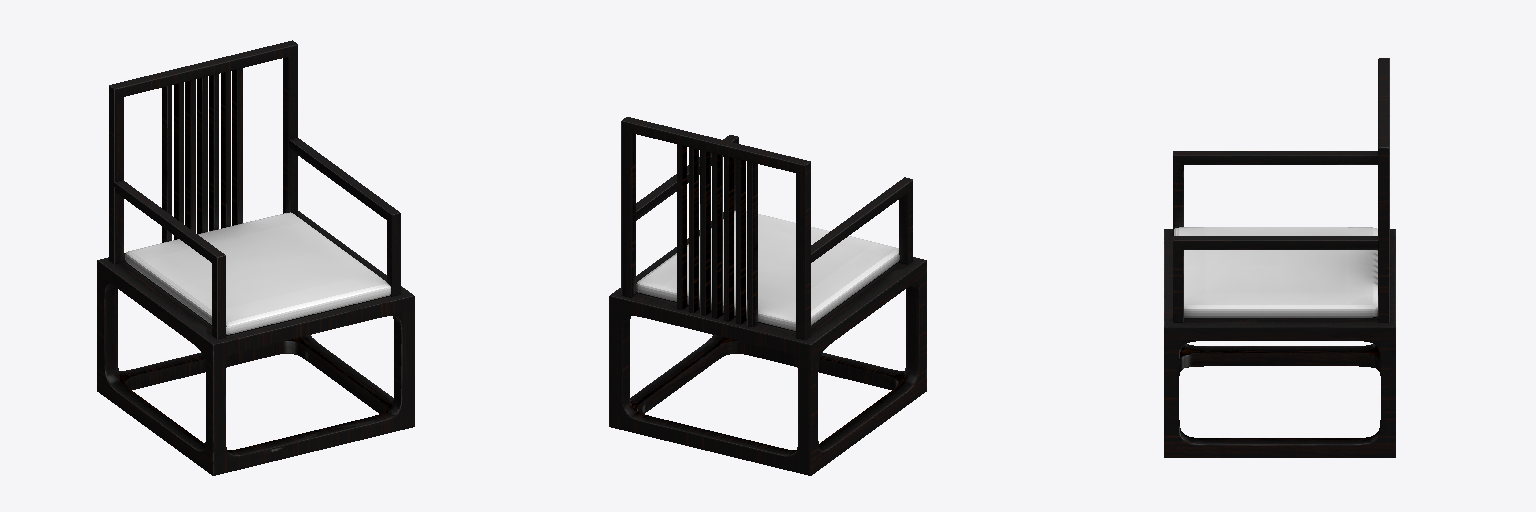
The picture shows the model from 3 angles: view 1: azimuth 30°, elevation 25°; view 2: azimuth 150°, elevation 25°; view 3: azimuth 270°, elevation 25°; orthographic projection.
Parts seen in each view (by area): view 1: solid_002, solid_001; view 2: solid_002, solid_001; view 3: solid_002, solid_001.
Part boxes in pixels (left/top/right/bottom): solid_002: left=97, top=40, right=414, bottom=475; solid_001: left=125, top=212, right=390, bottom=334; solid_002: left=609, top=117, right=926, bottom=475; solid_001: left=636, top=210, right=899, bottom=330; solid_002: left=1164, top=58, right=1395, bottom=457; solid_001: left=1174, top=227, right=1377, bottom=317.
Size of the model in its own units: 0.6074 by 0.8821 by 0.6043.
Materials: 1 (1 with a texture image).